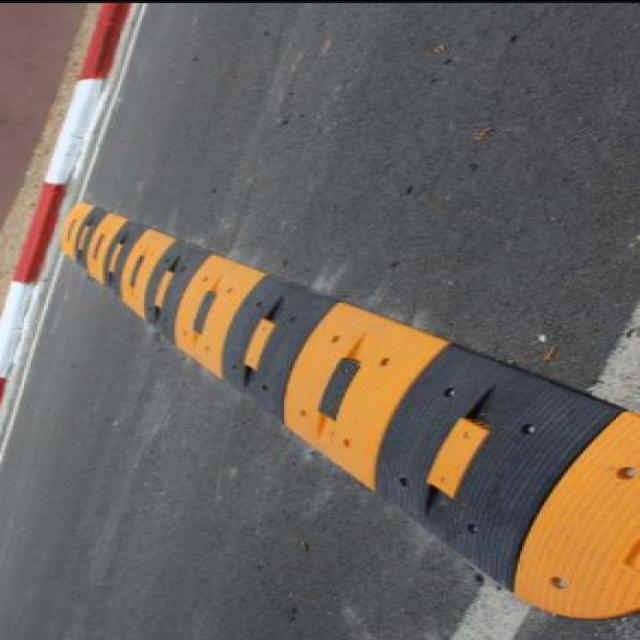speedbreaker: (65, 192, 640, 617)
